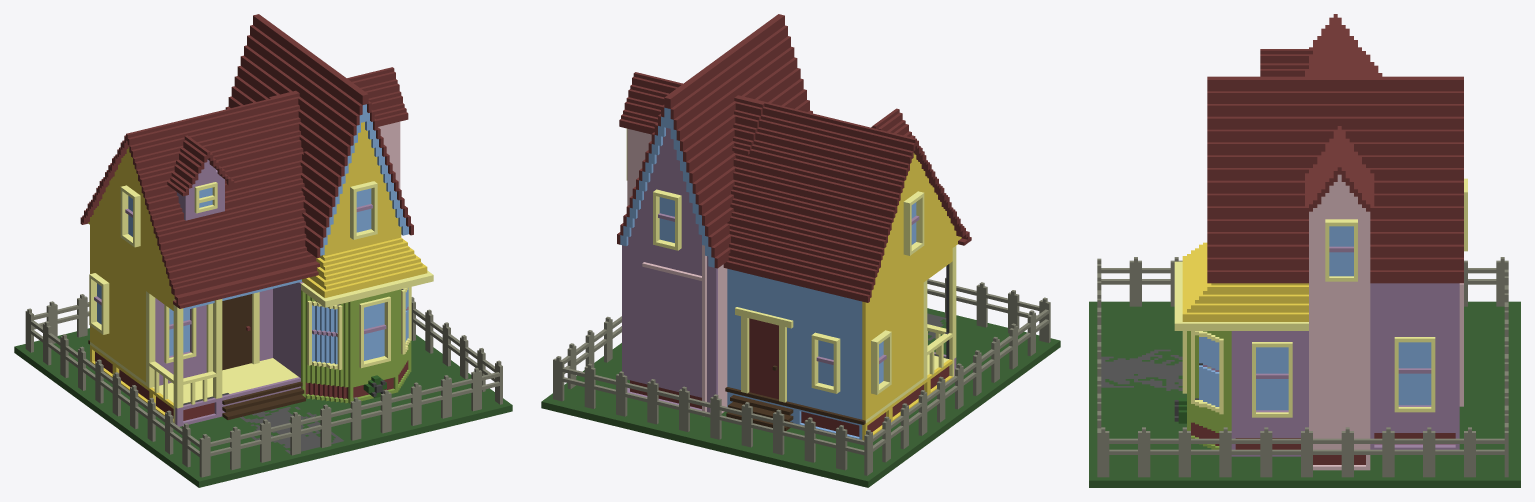
Rendered from casaUP.glb.
3 views of the same model, side by side, from view 1: azimuth 30°, elevation 25°; view 2: azimuth 150°, elevation 25°; view 3: azimuth 270°, elevation 25° (orthographic). The views are drawn at different scales.
Visible parts, largest first — view 1: Node1; view 2: Node1; view 3: Node1.
Boxes of the visible parts, left/top/right/bottom form: Node1: left=14, top=14, right=512, bottom=487; Node1: left=541, top=14, right=1060, bottom=487; Node1: left=1089, top=14, right=1520, bottom=487.
Bounding box in the file's own units: 10.4 × 9.6 × 10.6.
1 material, 1 textured.
